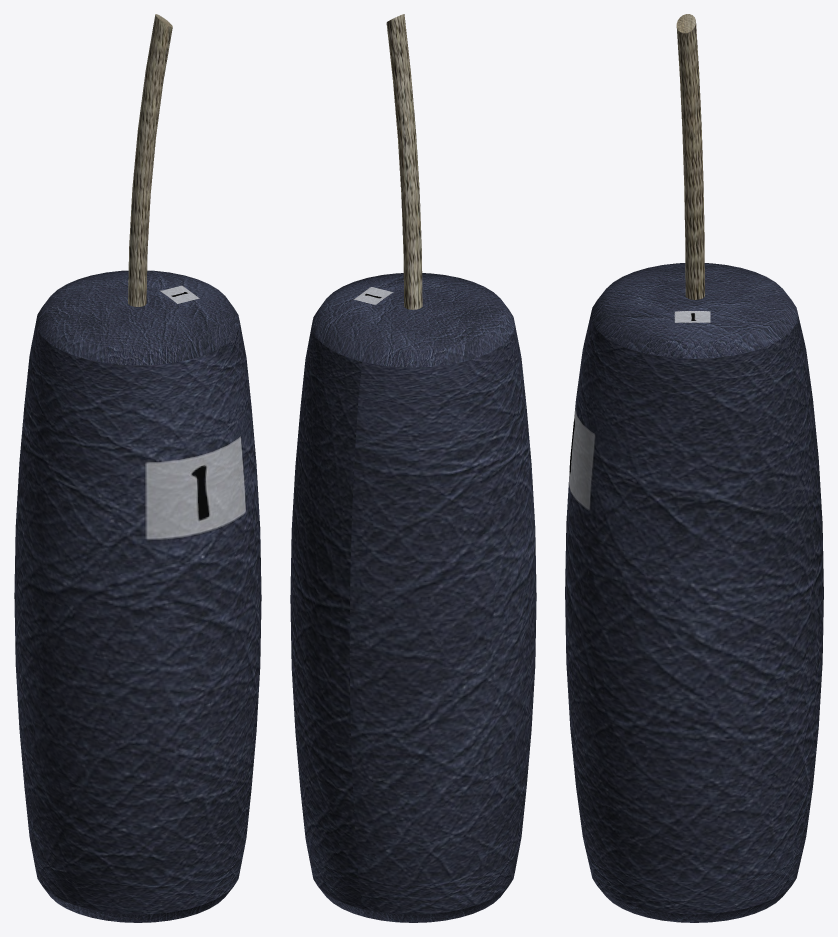
File: punching bag blue1.FBX
3 renders of one model, left to right at view 1: azimuth 30°, elevation 25°; view 2: azimuth 150°, elevation 25°; view 3: azimuth 270°, elevation 25°, orthographic.
Visible parts, largest first — view 1: Cylinder001, Cylinder002; view 2: Cylinder001, Cylinder002; view 3: Cylinder001, Cylinder002.
Boxes of the visible parts, <box> form: Cylinder001: <box>14,270,261,922</box>; Cylinder002: <box>128,14,172,306</box>; Cylinder001: <box>290,273,536,922</box>; Cylinder002: <box>386,14,422,309</box>; Cylinder001: <box>565,263,823,922</box>; Cylinder002: <box>676,14,704,299</box>.
Size of the model in its own units: 54.37 by 216 by 56.99.
